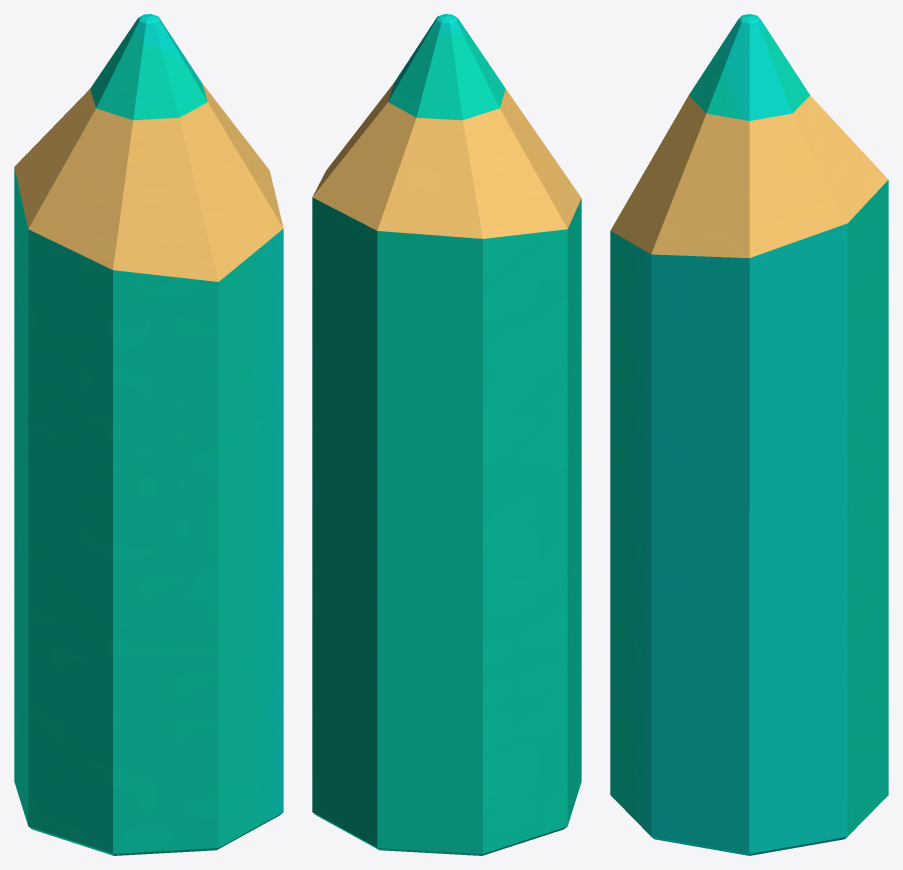
Rendered from PenSmall_2.fbx.
The picture shows the model from 3 angles, left to right: view 1: azimuth 30°, elevation 25°; view 2: azimuth 150°, elevation 25°; view 3: azimuth 270°, elevation 25°; orthographic projection.
Parts seen in each view (by area): view 1: Cylinder.004; view 2: Cylinder.004; view 3: Cylinder.004.
Part boxes in pixels (box(x1,y1,x2,y2)): Cylinder.004: box(14, 14, 283, 855); Cylinder.004: box(312, 14, 581, 855); Cylinder.004: box(610, 14, 888, 855).
Size of the model in its own units: 129 by 400 by 129.
